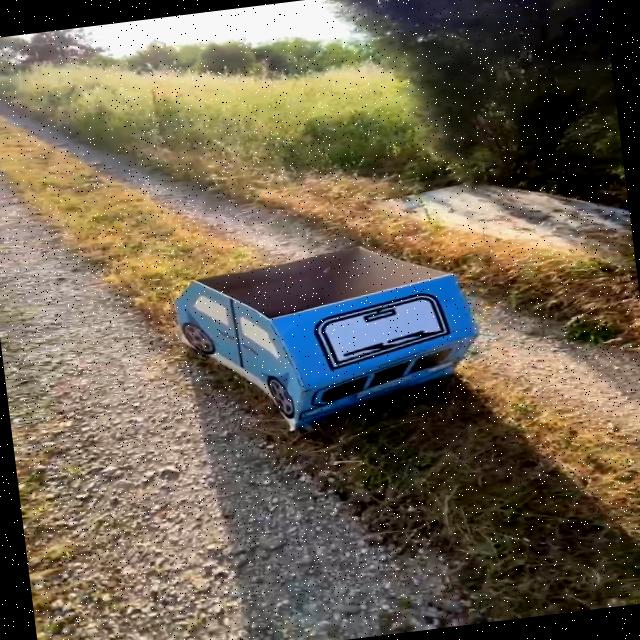blue_car: (104, 191, 533, 471)
